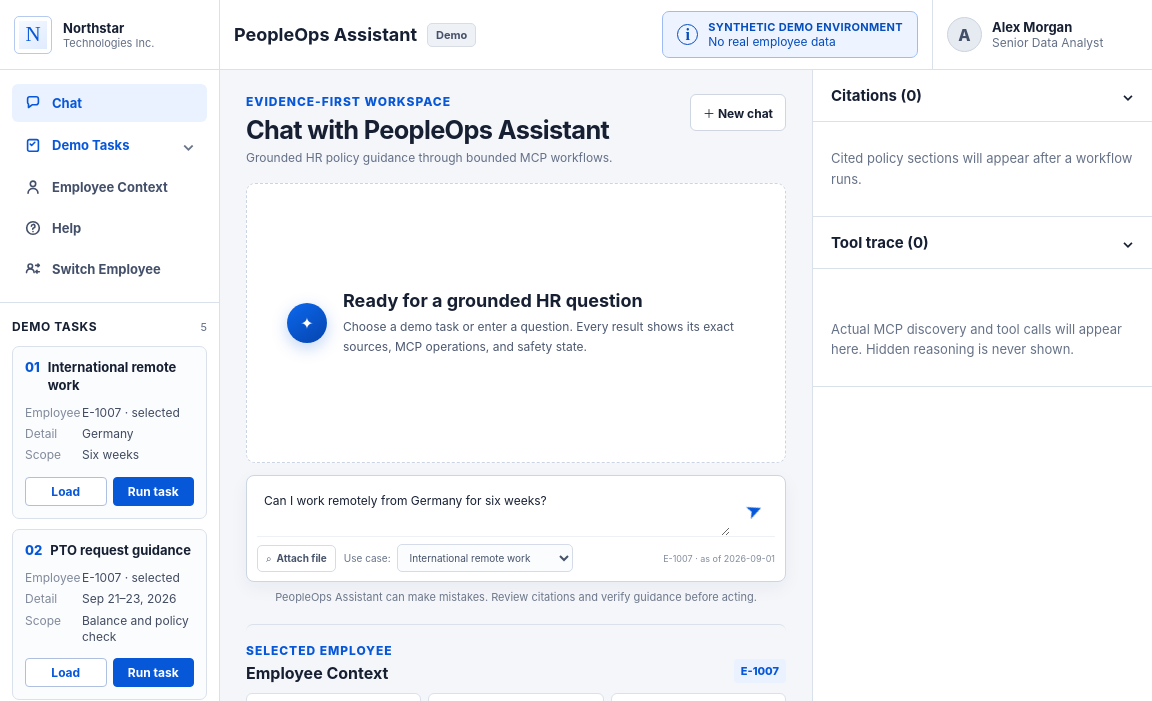
it: PeopleOps Assistant Phase 8 evidence-first interface › does not repeat structured result facts in a terse generated summary
Click the button "Send question ➤": (754, 510) [732,488,776,532]
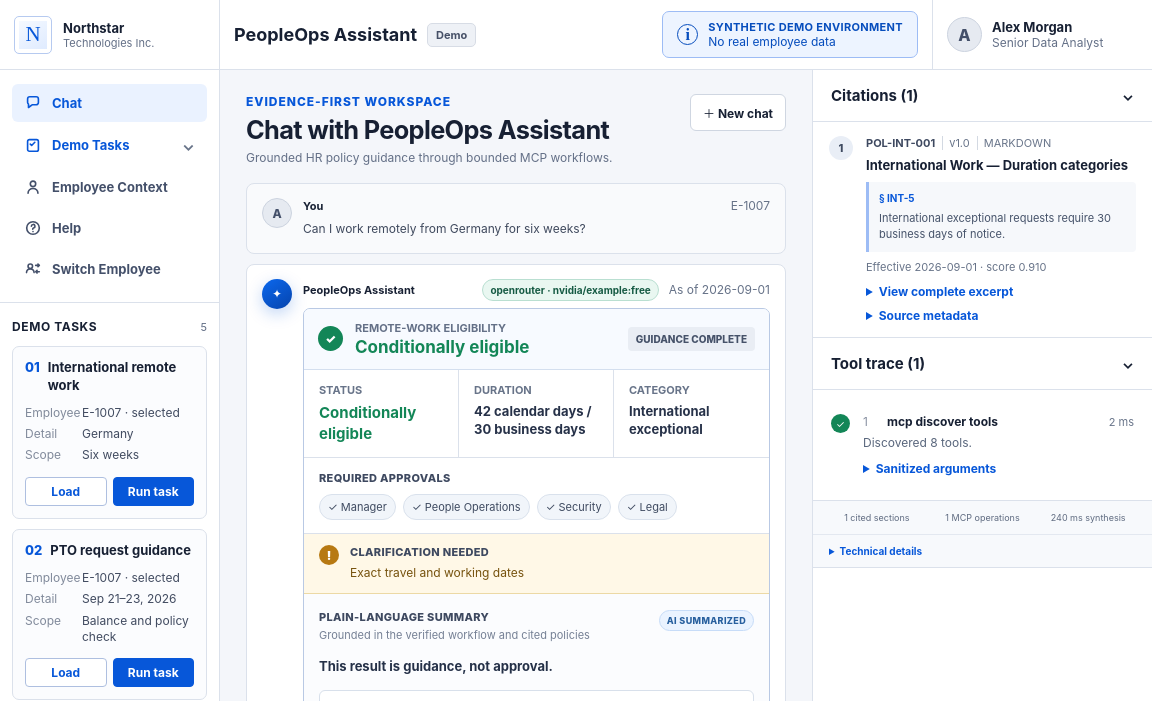
Now the text "This result is guidance, not approval." is shown, box [319,658,553,674]
Now the text "42 calendar days / 30 business days" is shown once, box [474,402,598,438]
Now the text "International exceptional" is shown once, box [629,403,710,437]
